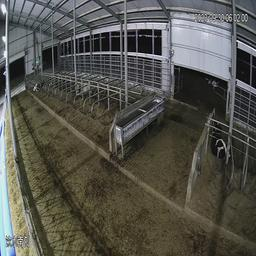cow: (207, 116, 231, 163), (74, 77, 93, 96), (33, 76, 45, 96)
